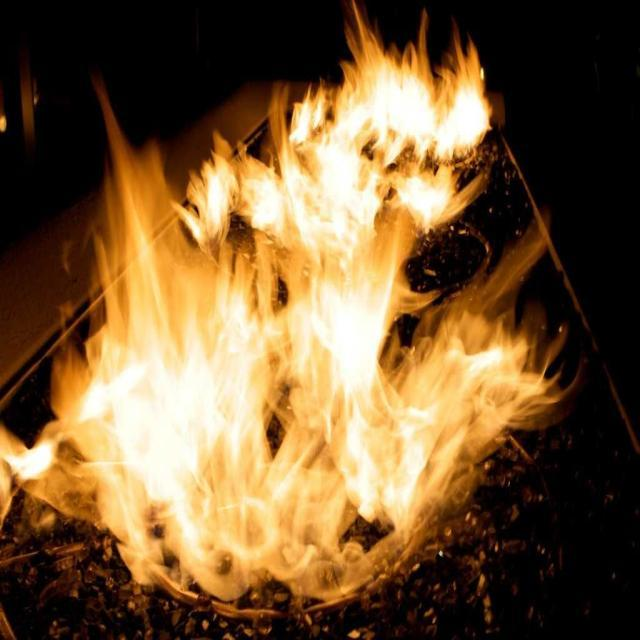Fire: (84, 118, 500, 574)
